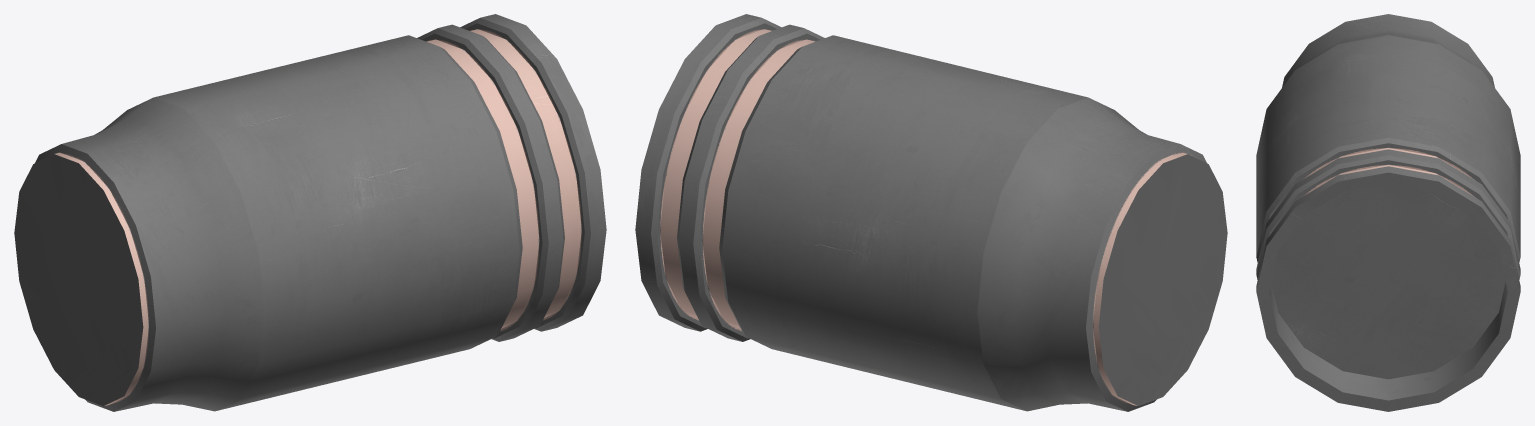
File: guard_14_c_c.glb
3 renders of one model, left to right at view 1: azimuth 30°, elevation 25°; view 2: azimuth 150°, elevation 25°; view 3: azimuth 270°, elevation 25°, orthographic. The views are drawn at different scales.
Visible parts, largest first — view 1: guard_14_c_c_lod0; view 2: guard_14_c_c_lod0; view 3: guard_14_c_c_lod0.
Part boxes in pixels (bbox=[...]): guard_14_c_c_lod0: bbox=[14, 14, 606, 411]; guard_14_c_c_lod0: bbox=[635, 14, 1227, 411]; guard_14_c_c_lod0: bbox=[1256, 14, 1520, 411].
Size of what is drawn, in the model's own units: 0.0569 by 0.0354 by 0.0354.
Materials: 1 (1 with a texture image).
